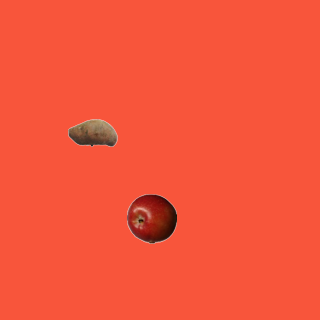Apple Braeburn: (126, 193, 176, 243)
Potato Sweet: (67, 107, 117, 157)
